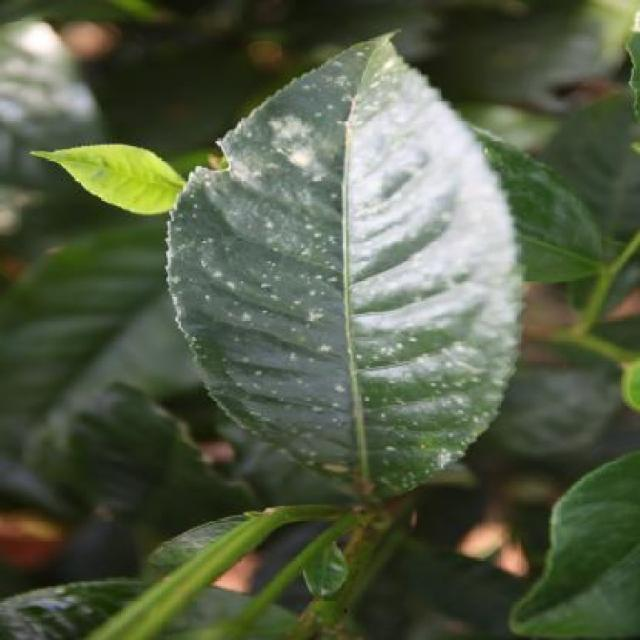White spot of tea: (157, 21, 543, 532)
